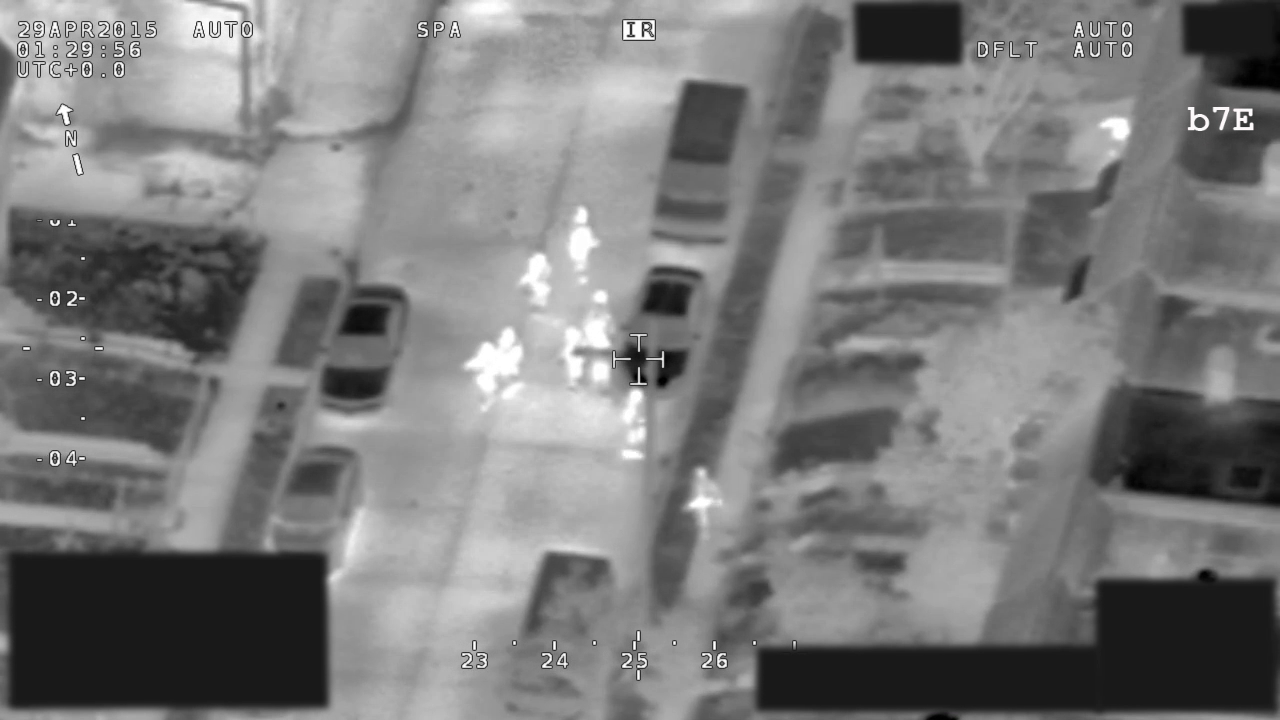vehicle: (500, 543, 615, 720), (649, 75, 752, 247), (318, 280, 410, 419), (278, 447, 367, 582), (620, 265, 710, 396)
